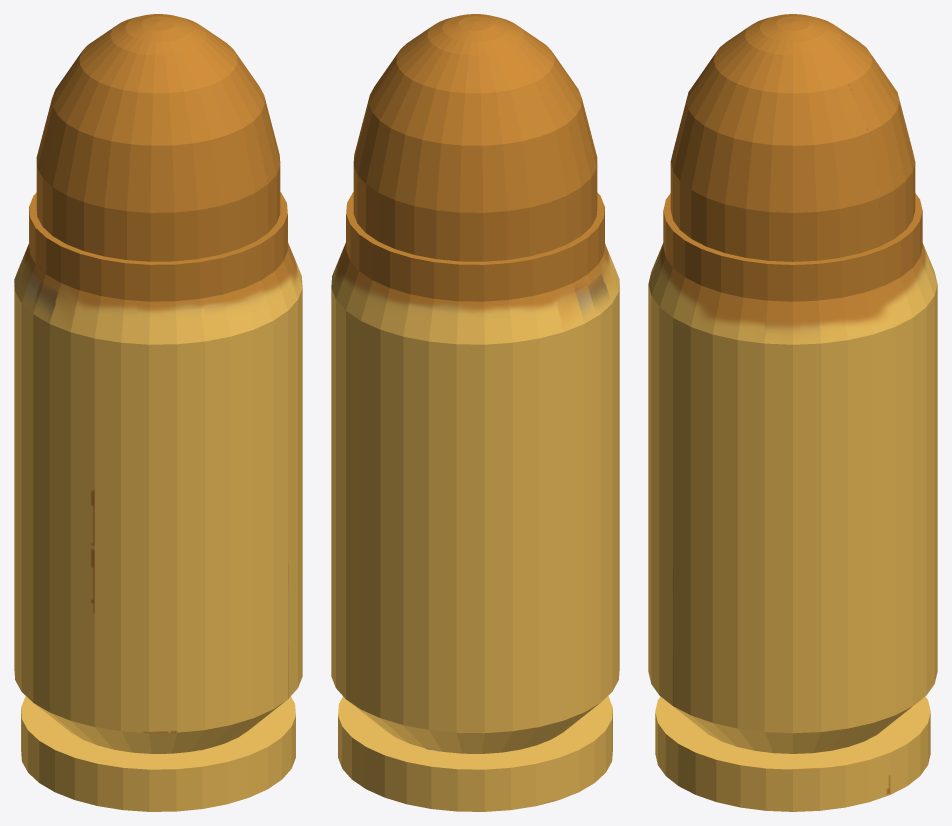
Rendered from bullet.fbx.
3 renders of one model, left to right at view 1: azimuth 30°, elevation 25°; view 2: azimuth 150°, elevation 25°; view 3: azimuth 270°, elevation 25°, orthographic.
Visible parts, largest first — view 1: Sphere; view 2: Sphere; view 3: Sphere.
Part boxes in pixels (x1,y1,x2,y2): Sphere: (14, 14, 302, 811); Sphere: (331, 14, 619, 811); Sphere: (648, 14, 937, 811).
Size of the model in its own units: 0.5864 by 1.64 by 0.5864.
